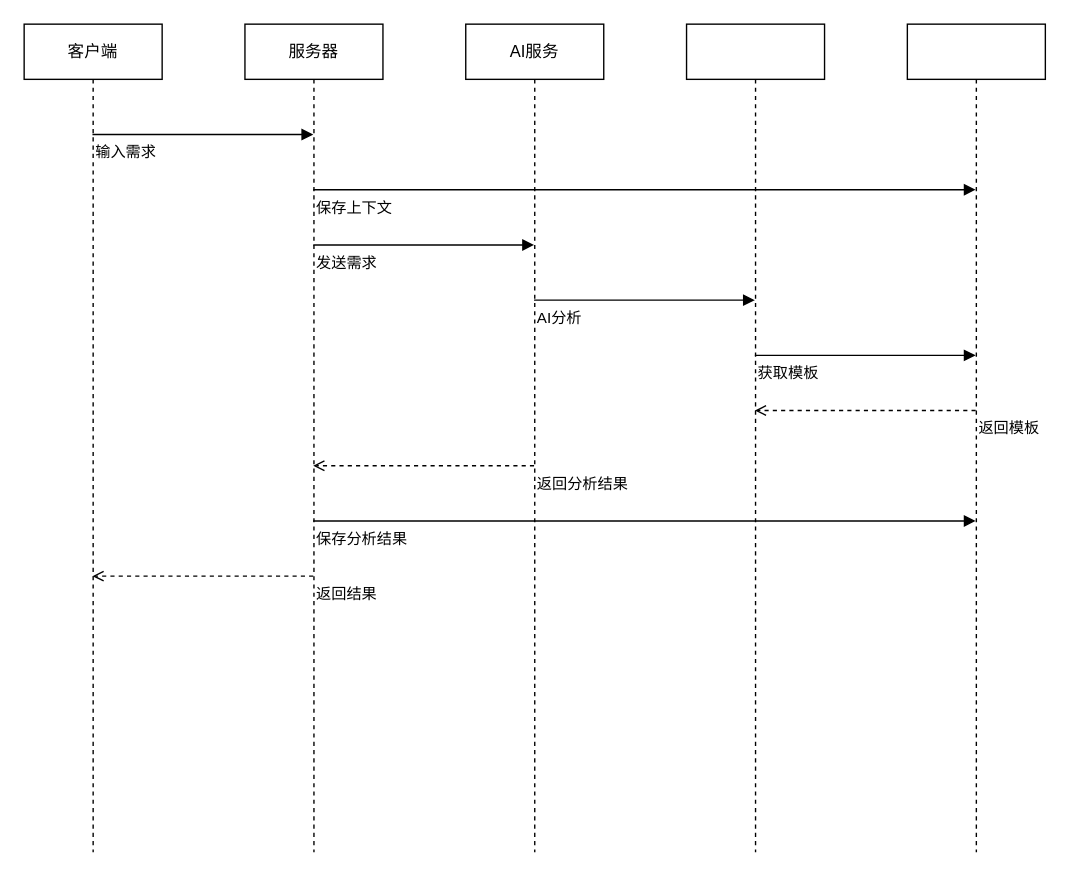
This 1070x876 diagram has some shape labels left out. The shapes that lost their labels are listed below. From the top down, each one's box as (x1, y1, x2, y2) in pixels, then its label:
(685, 23, 825, 852): 模板管理器
(906, 23, 1045, 852): 数据库
